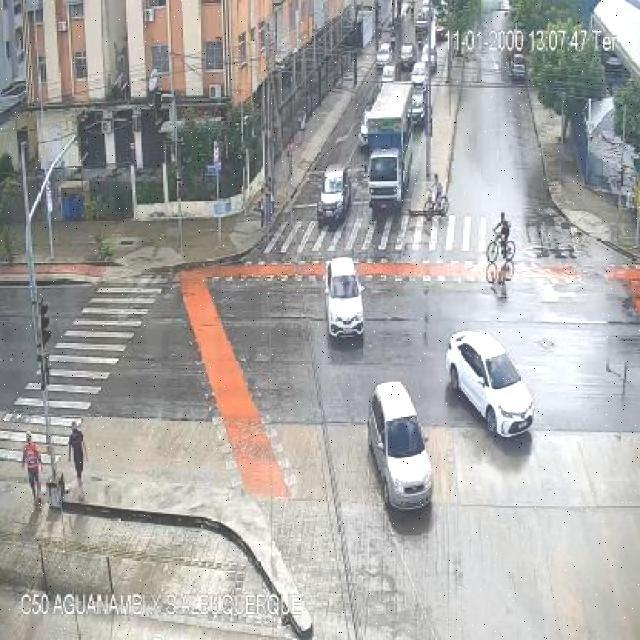Car: (447, 330, 535, 435), (368, 382, 433, 509), (323, 257, 365, 341), (366, 146, 406, 209), (317, 167, 353, 226), (407, 91, 425, 125), (508, 54, 528, 82), (410, 60, 429, 86), (376, 43, 393, 71), (400, 44, 416, 70), (380, 64, 397, 83), (359, 120, 369, 147), (420, 45, 430, 69), (427, 52, 438, 73), (389, 34, 396, 50)
